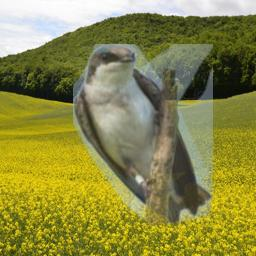Swallow: (73, 44, 213, 225)
